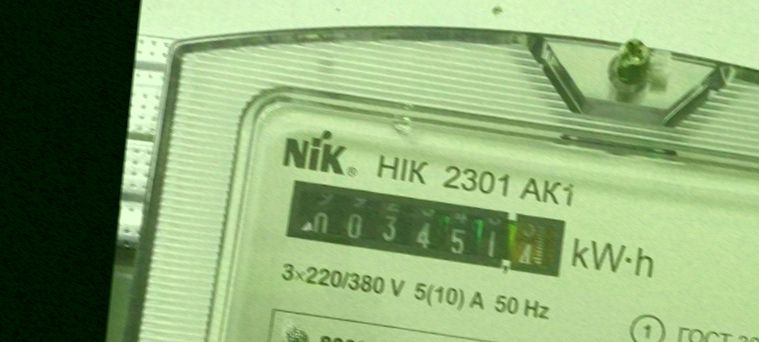0: (343, 208, 365, 238), (309, 205, 331, 234)
1: (482, 225, 501, 257)
3: (378, 209, 400, 242)
4: (411, 216, 435, 250), (513, 237, 536, 267)
5: (447, 222, 467, 255)
screen: (277, 172, 573, 283)
